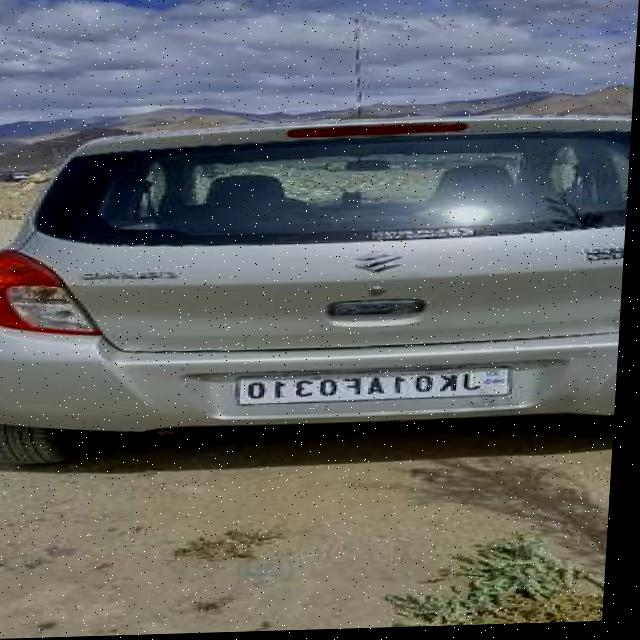plate: (239, 368, 521, 407)
